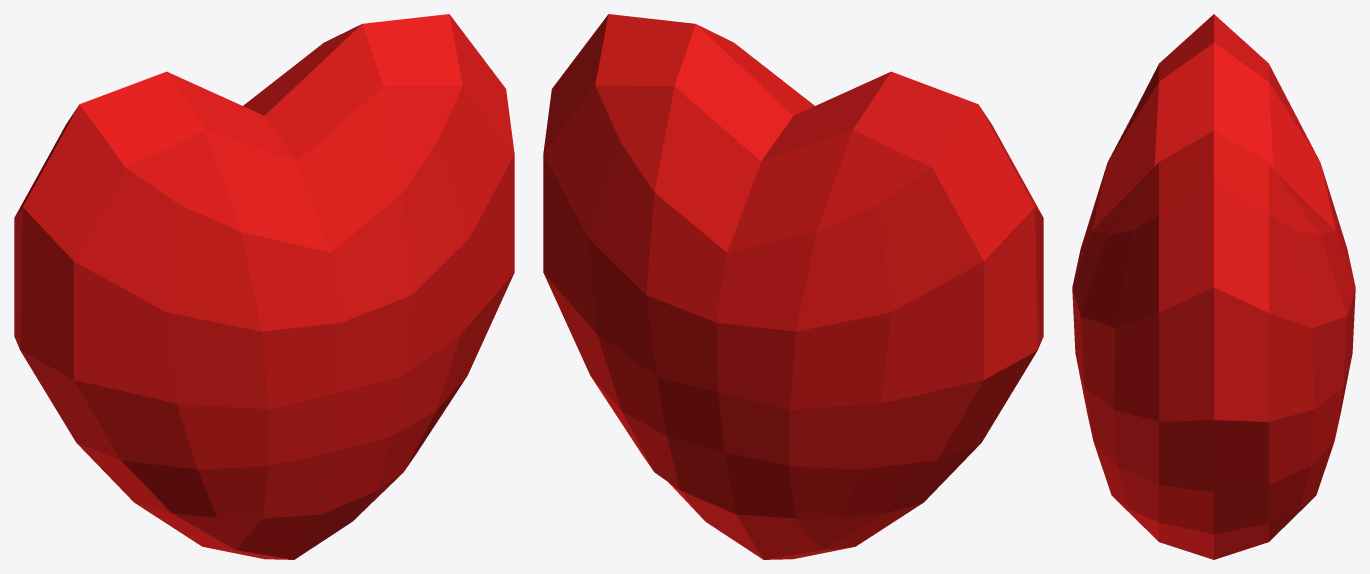
The model's file is HealthFull.fbx.
3 renders of one model, left to right at view 1: azimuth 30°, elevation 25°; view 2: azimuth 150°, elevation 25°; view 3: azimuth 270°, elevation 25°, orthographic. The views are drawn at different scales.
Visible parts, largest first — view 1: Health.Full; view 2: Health.Full; view 3: Health.Full.
Part boxes in pixels (<box>): Health.Full: <box>14,14,514,559</box>; Health.Full: <box>543,14,1043,559</box>; Health.Full: <box>1072,14,1355,559</box>.
Bounding box in the file's own units: 39.61 × 39.63 × 21.62.
